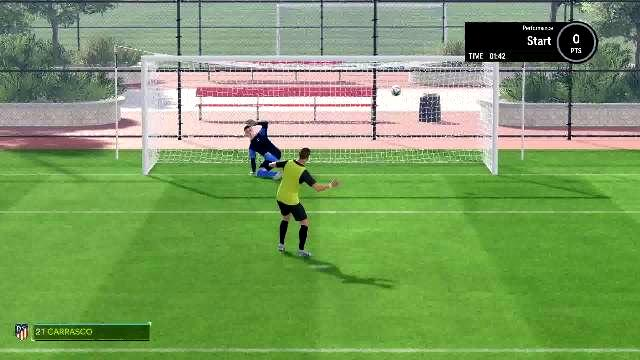bottom-left: (146, 119, 262, 175)
bottom-right: (378, 119, 492, 175)
center-down: (262, 118, 378, 176)
center-up: (262, 62, 378, 118)
football: (386, 82, 406, 98)
goalkeeper: (239, 120, 289, 176)
player: (269, 146, 337, 256)
top-left: (146, 62, 262, 118)
top-right: (378, 62, 494, 118)
